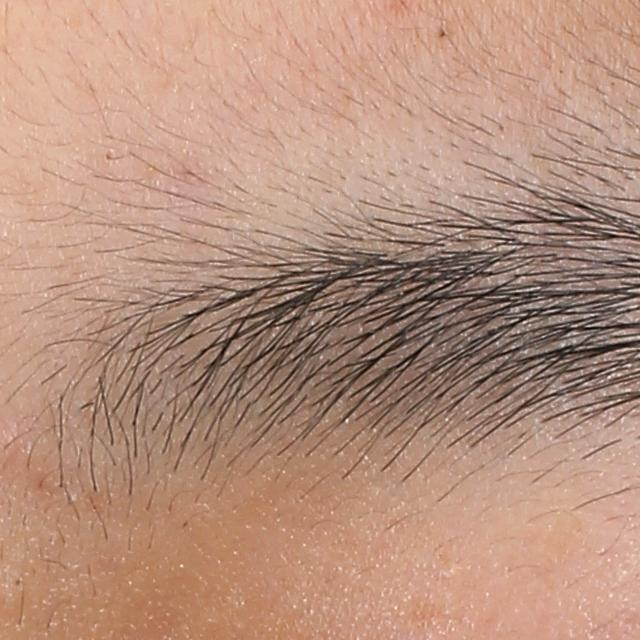comedo: (10, 574, 28, 597), (435, 23, 453, 41)
